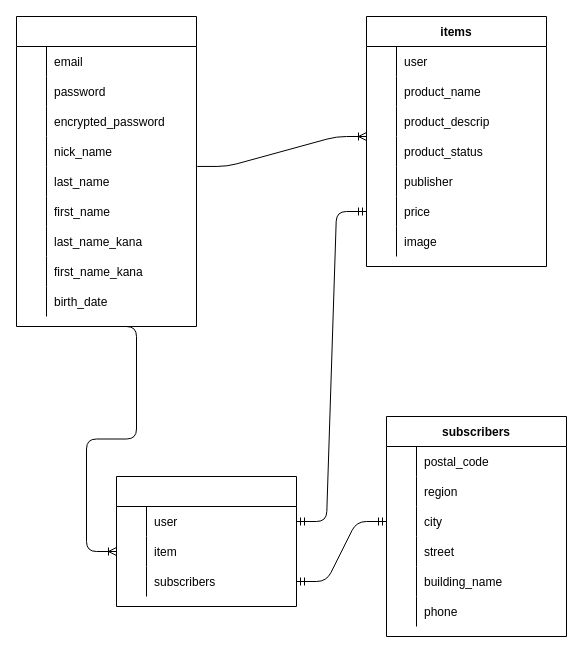
The diagram is 583 pixels wide and 653 high, and some of its shapes have lost their labels. Here are the shapes that lost their labels. From the top down, the box of each, then its label:
(16, 16, 196, 326): users
(116, 476, 296, 606): purchase
